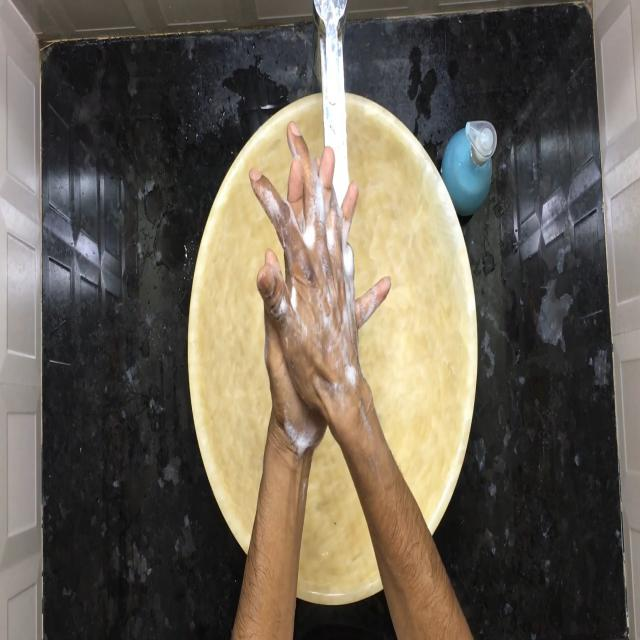step_3: (244, 118, 376, 424)
